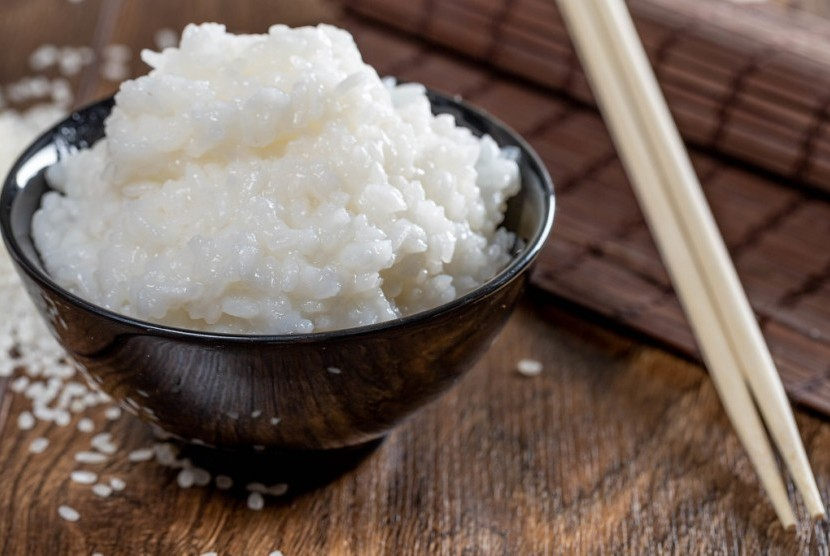Nasi Putih: (23, 28, 539, 372)
